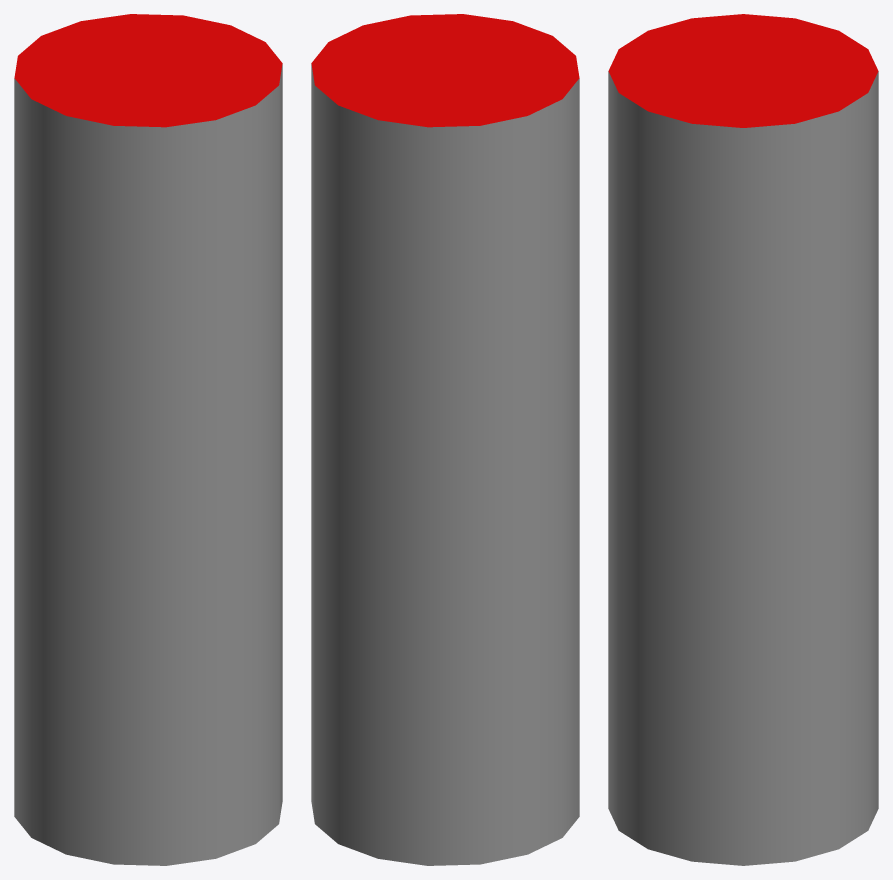
The model's file is Pillar1x1.fbx.
3 renders of one model, left to right at view 1: azimuth 30°, elevation 25°; view 2: azimuth 150°, elevation 25°; view 3: azimuth 270°, elevation 25°, orthographic.
Visible parts, largest first — view 1: Pillar; view 2: Pillar; view 3: Pillar.
Boxes of the visible parts, bbox=[...] form: Pillar: bbox=[14, 14, 282, 865]; Pillar: bbox=[311, 14, 579, 865]; Pillar: bbox=[608, 14, 878, 865].
Size of the model in its own units: 1.36 by 4.1 by 1.36.
